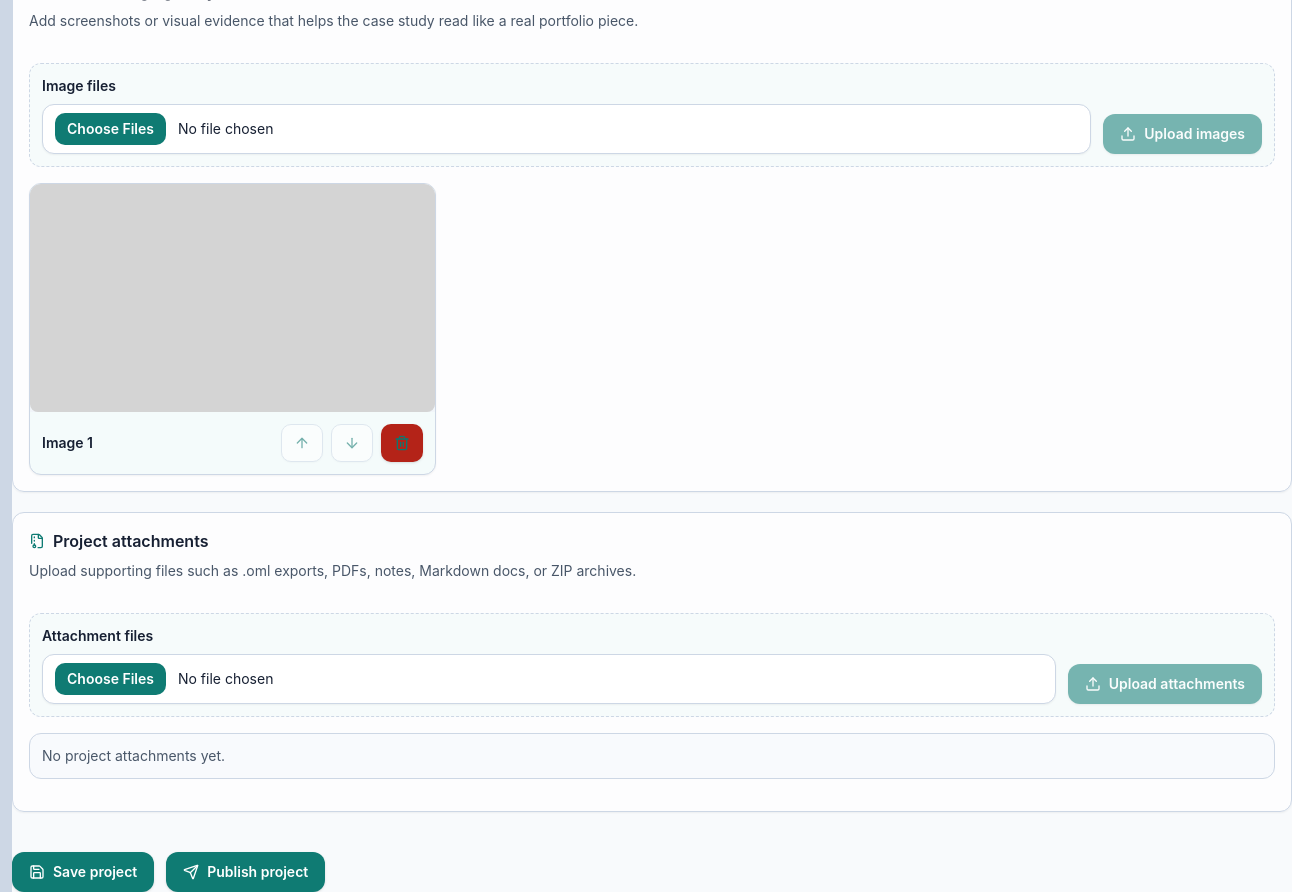
Test: ProjectEditor › shows an error when deleting a missing project gallery image fails
(page scrolled)
Click the button named "delete image 1": (402, 443) [381,424,423,462]
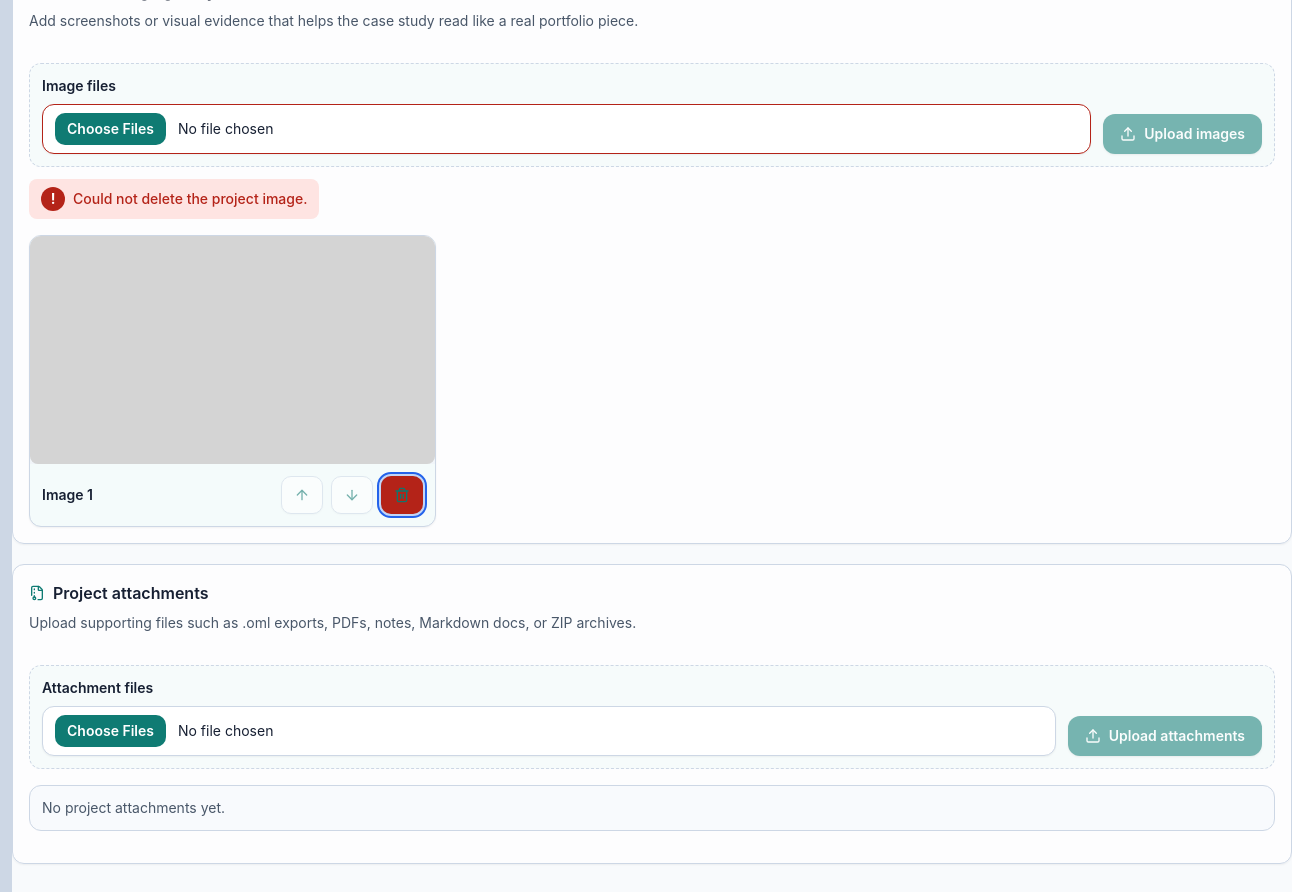
Expected: the message shows "Could not delete the project image.", [73,190,308,207]
